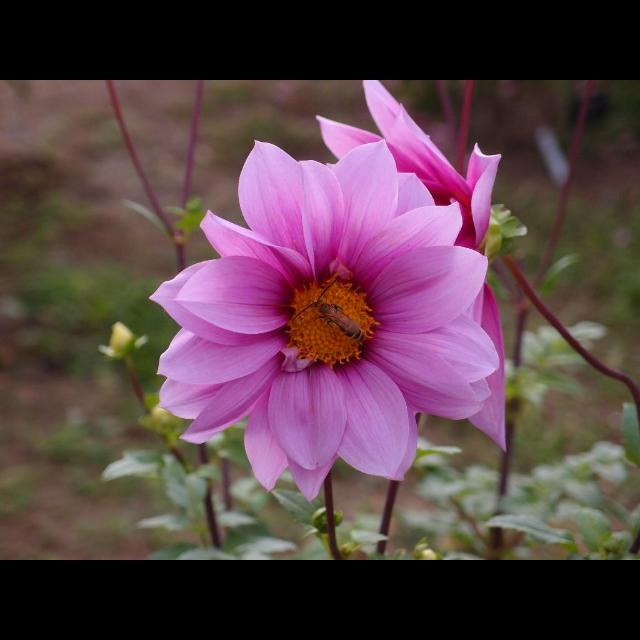Flower: (160, 142, 494, 500), (312, 80, 506, 452), (101, 320, 149, 356)
